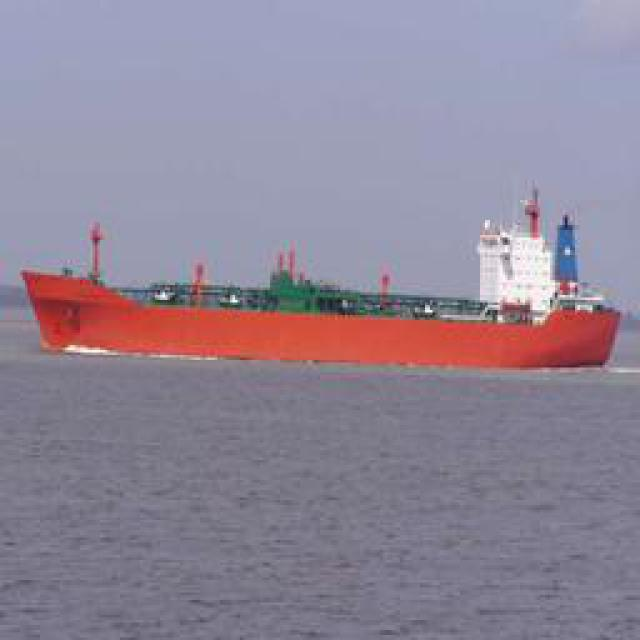Ship: (10, 237, 625, 370)
